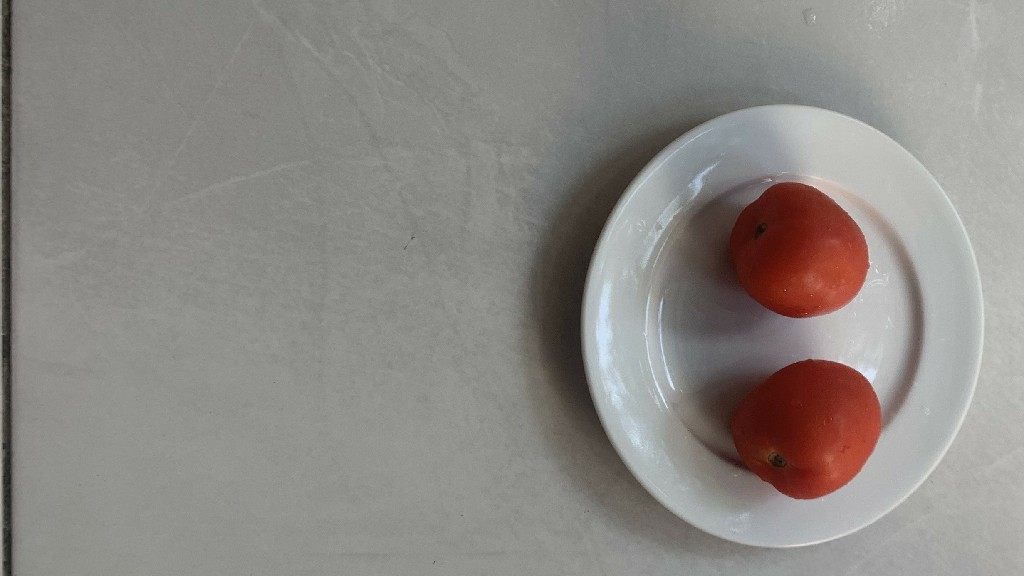OK: (725, 356, 884, 501), (723, 178, 864, 326)
